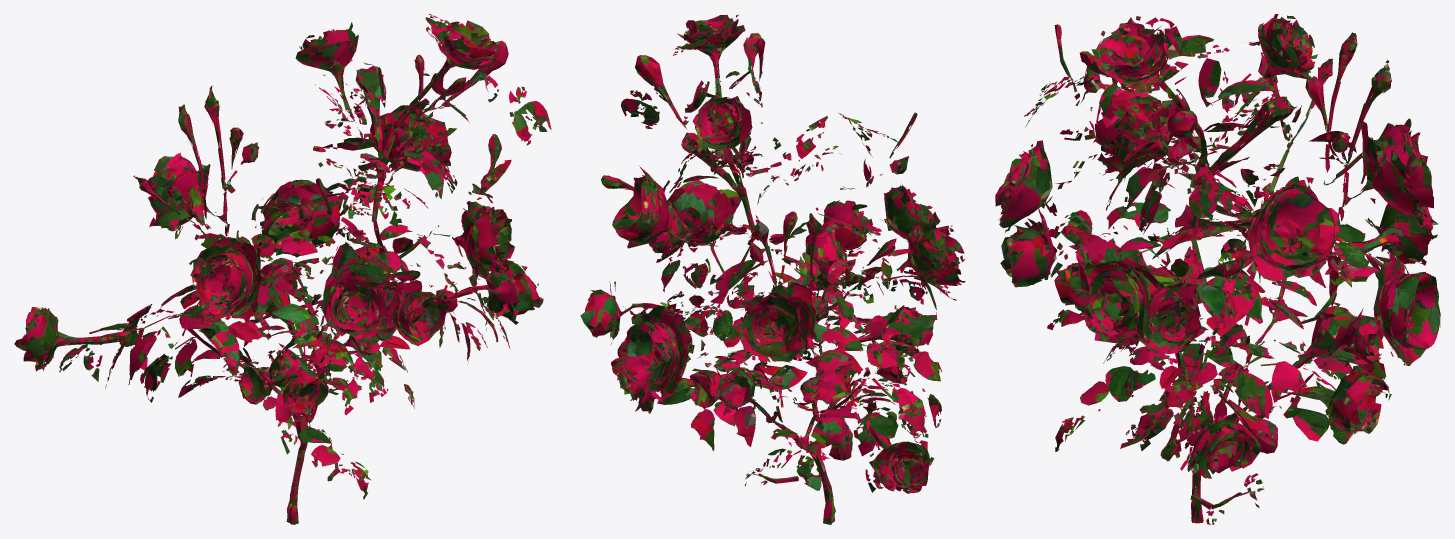
File: veg_shrub_rose_01.obj
3 renders of one model, left to right at view 1: azimuth 30°, elevation 25°; view 2: azimuth 150°, elevation 25°; view 3: azimuth 270°, elevation 25°, orthographic. The views are drawn at different scales.
Parts seen in each view (by area): view 1: veg_shrub_rose_01; view 2: veg_shrub_rose_01; view 3: veg_shrub_rose_01.
Part boxes in pixels (x1,y1,x2,y2): veg_shrub_rose_01: (14, 14, 551, 524); veg_shrub_rose_01: (580, 14, 965, 524); veg_shrub_rose_01: (995, 14, 1440, 524).
Size of the model in its own units: 1.65 by 1.72 by 1.2.
Materials: 1 (1 with a texture image).
